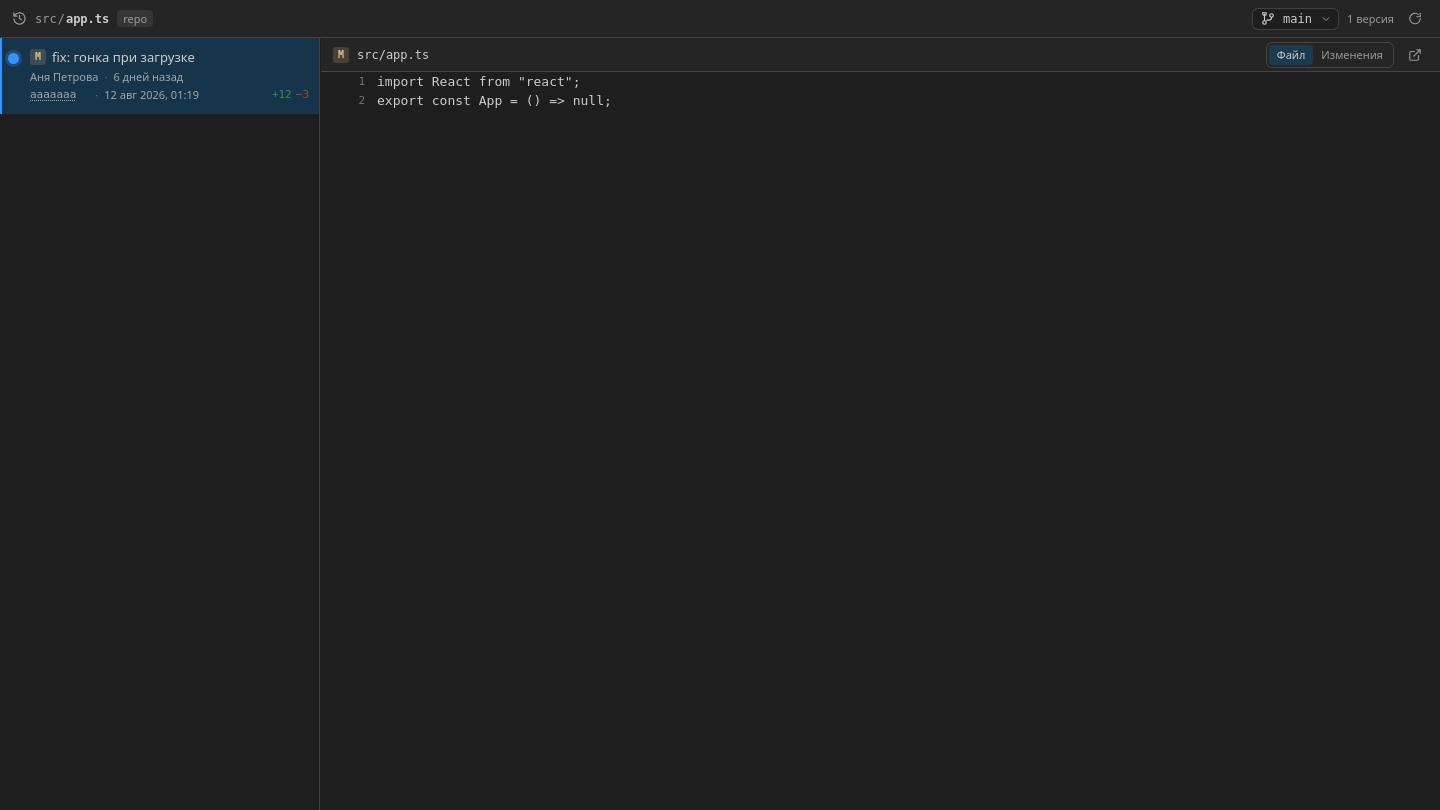
App истории › разворачивает файл целиком одной кнопкой и сворачивает обратно
This screenshot has width=1440, height=810.
Click the button "Изменения": click(1352, 54) [1313,44,1391,64]
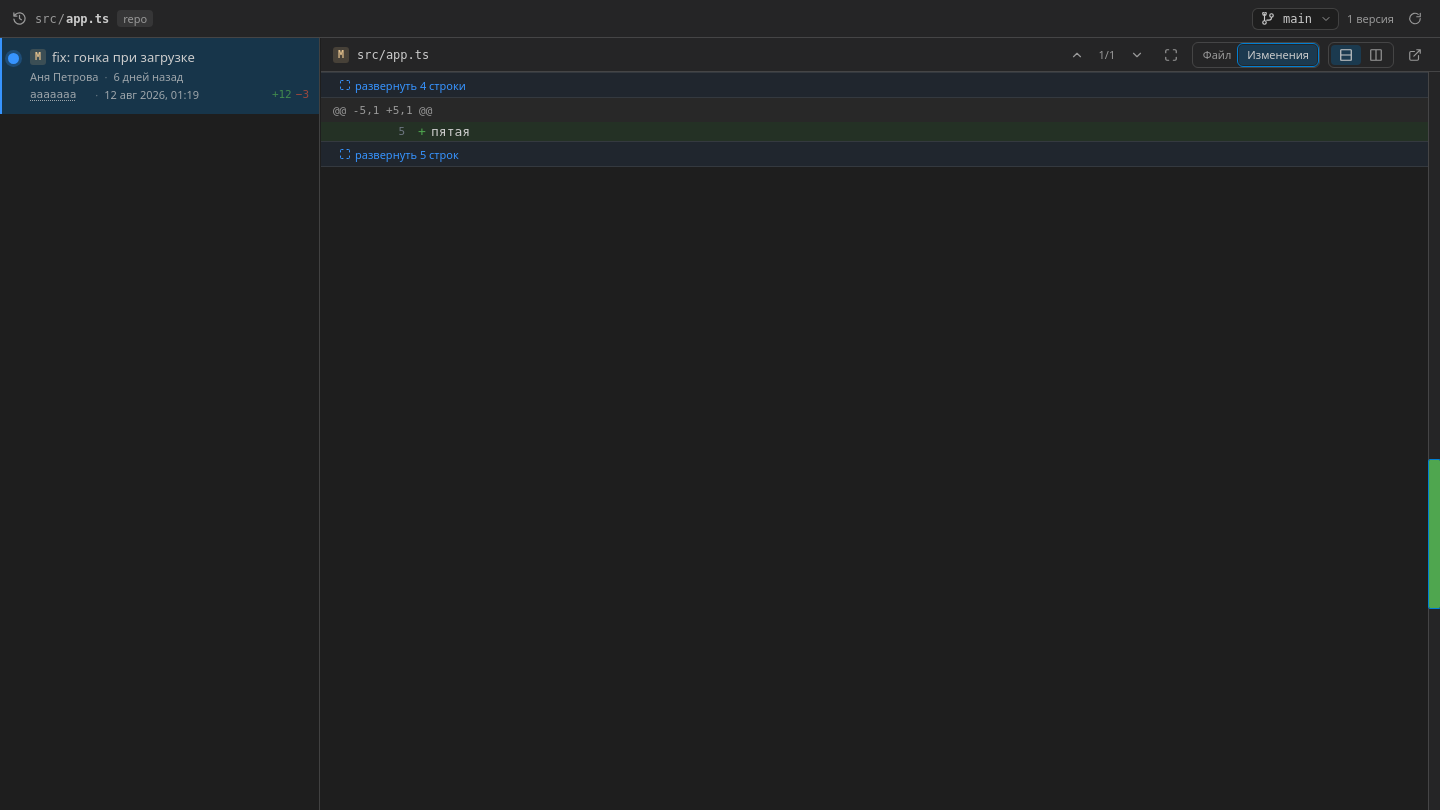
Click the button titled "Показать файл целиком": click(1171, 54) [1158,42,1184,66]
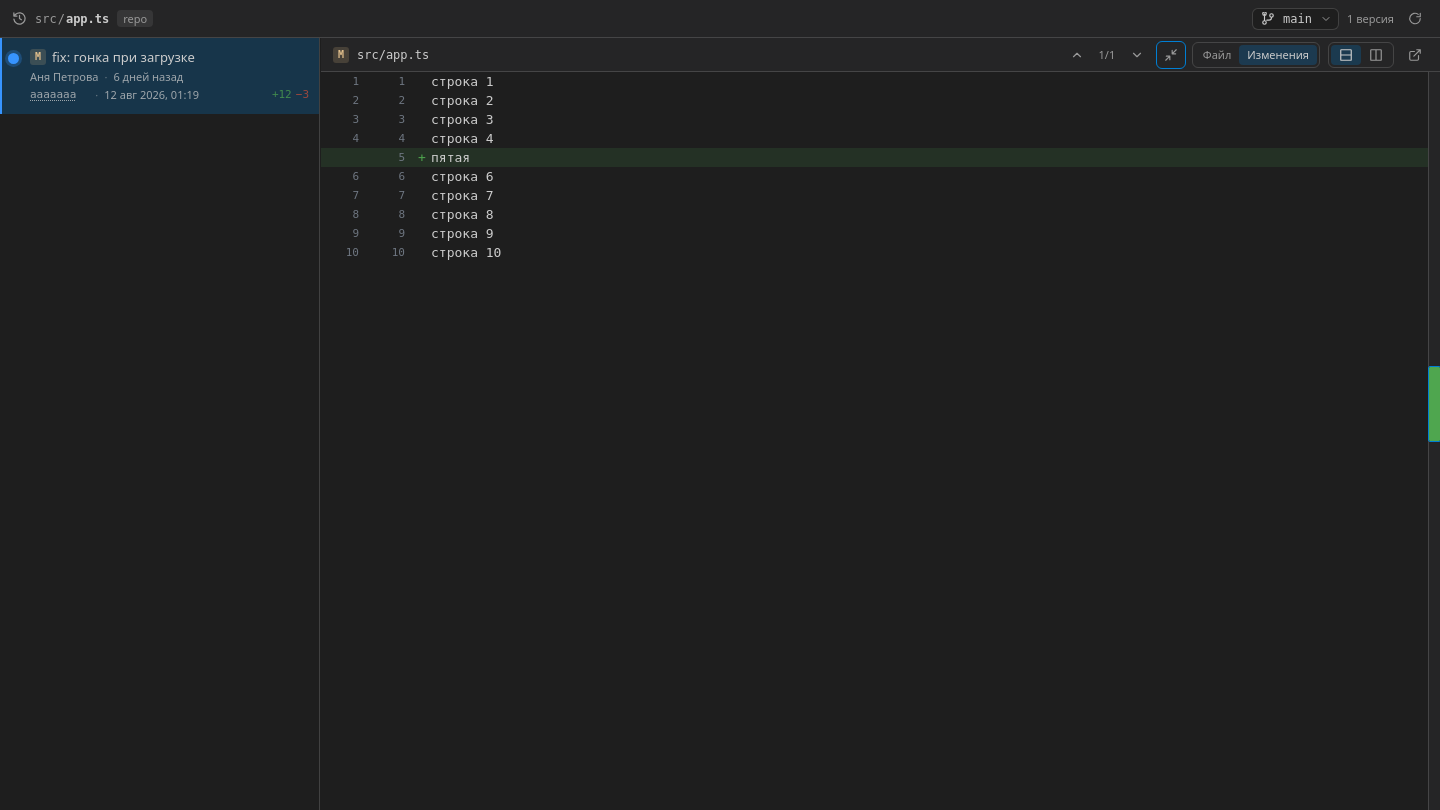
// Строки пришли — разворачивать больше нечего, и кнопка предлагает обратное.
Click the button titled "Свернуть неизменённые строки": click(1171, 54) [1158,42,1184,66]
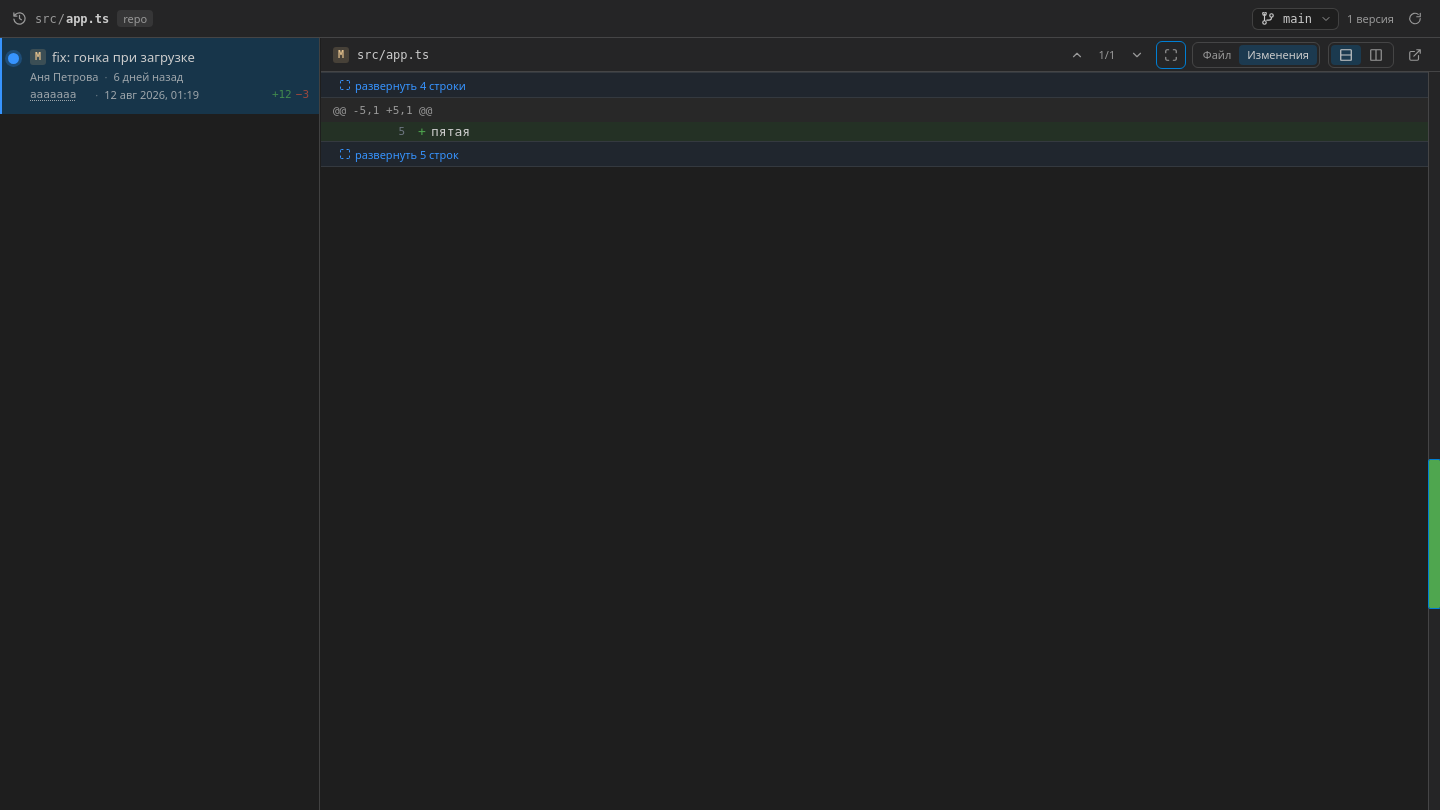
Expected: the button titled "Показать файл целиком" is shown, [1158,42,1184,66]
